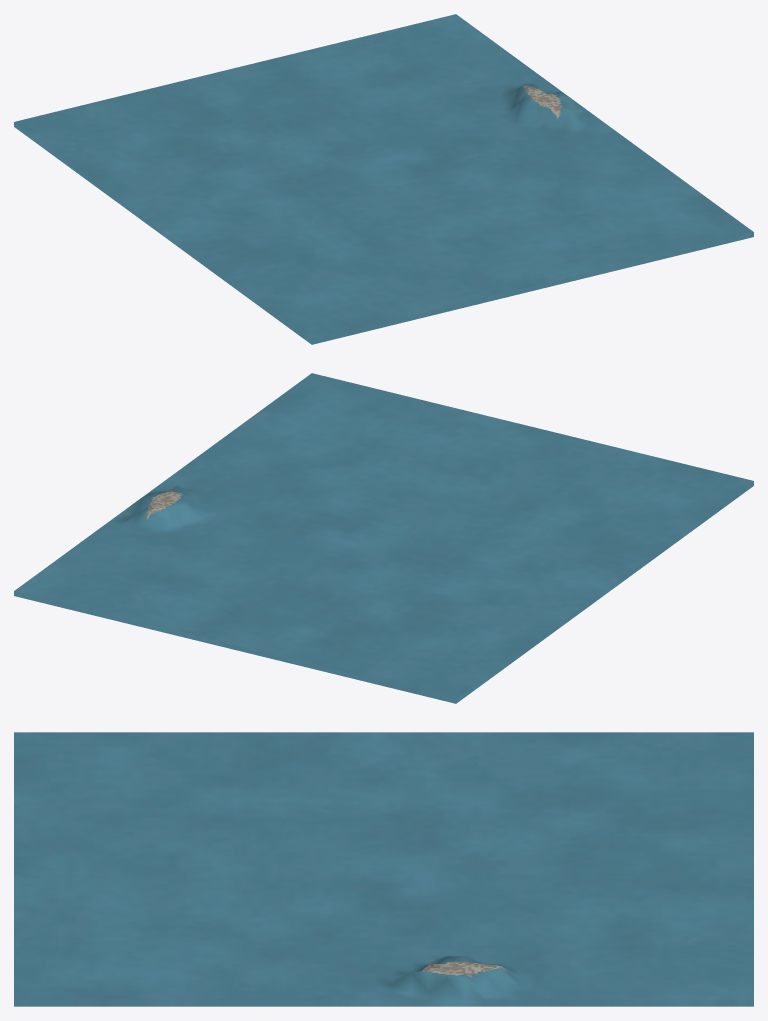
The picture shows the model from 3 angles, top to bottom: view 1: azimuth 30°, elevation 25°; view 2: azimuth 150°, elevation 25°; view 3: azimuth 270°, elevation 25°; orthographic projection. The views are drawn at different scales.
Parts seen in each view (by area): view 1: terrain; view 2: terrain; view 3: terrain.
Boxes of the visible parts, box(x1,y1,x2,y2) form: terrain: box(14, 14, 753, 344); terrain: box(14, 373, 753, 703); terrain: box(14, 732, 753, 1006).
Size of the model in its own units: 283 by 9.6 by 331.
Materials: 1 (1 with a texture image).
